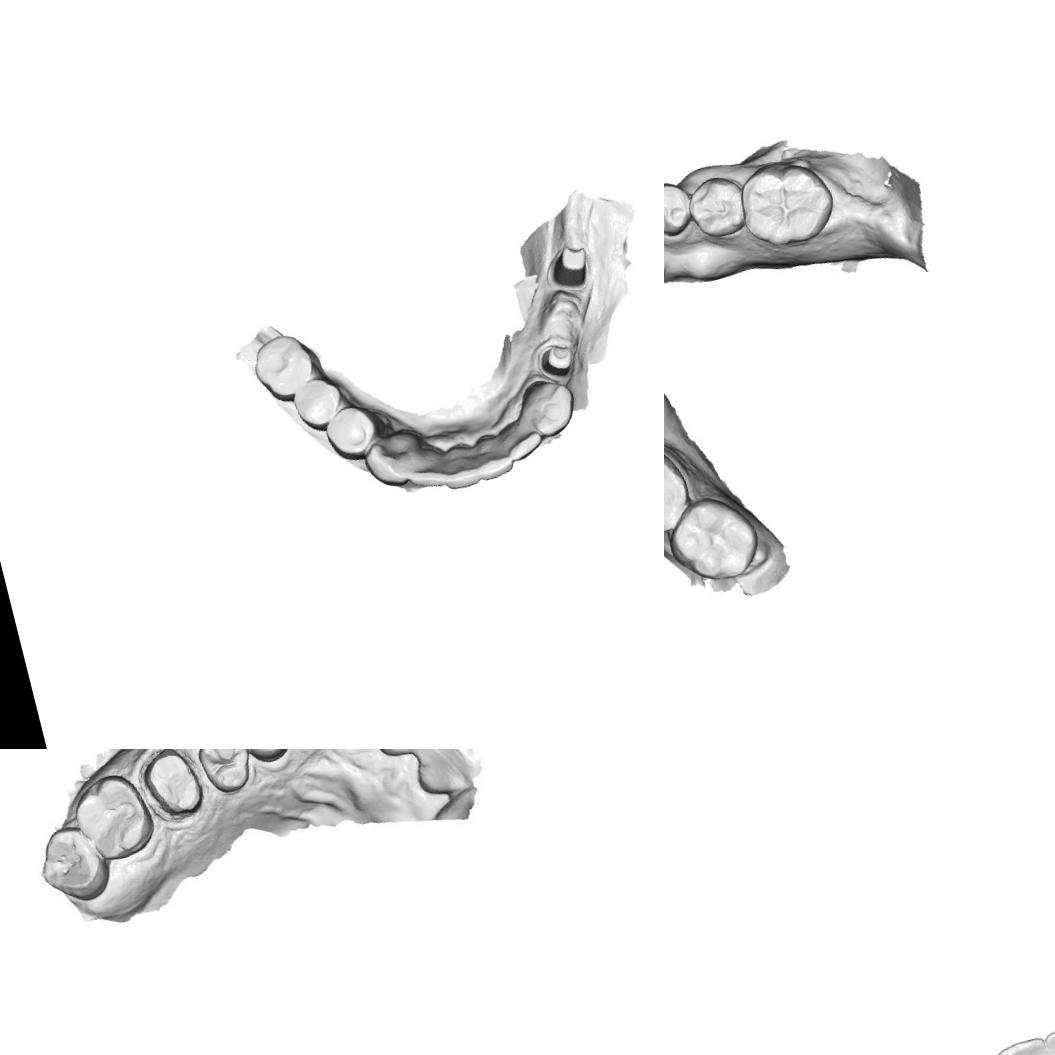abutment: (536, 230, 603, 297), (533, 338, 579, 384)
canine: (517, 373, 581, 441), (359, 434, 416, 494)
crown: (140, 749, 207, 822)
incisor: (416, 749, 483, 796), (436, 440, 482, 495), (467, 431, 514, 482), (498, 416, 546, 464), (400, 445, 446, 495), (988, 1033, 1055, 1055)
molar: (730, 148, 842, 256), (664, 486, 766, 591), (74, 771, 155, 859), (32, 819, 110, 902), (246, 326, 324, 408), (664, 438, 697, 542)
premolar: (680, 167, 752, 244), (319, 398, 391, 467), (288, 371, 349, 437), (191, 749, 254, 800), (664, 174, 698, 245), (228, 749, 295, 770)
